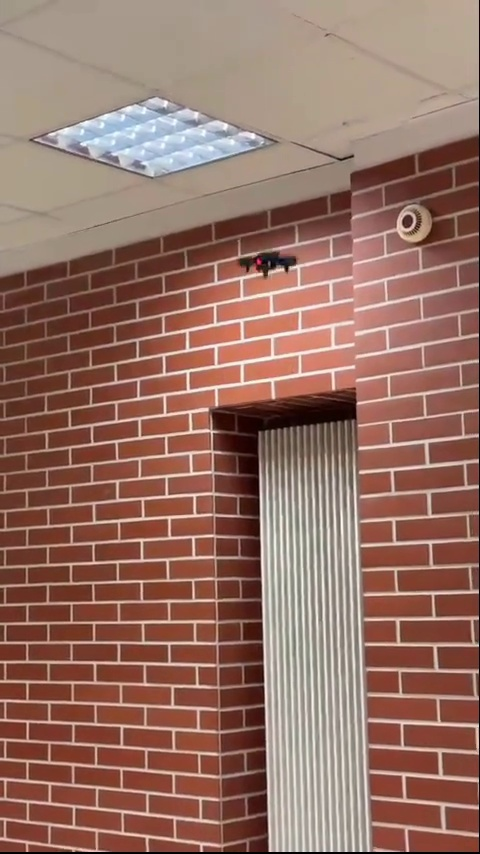drone: (237, 252, 297, 275)
